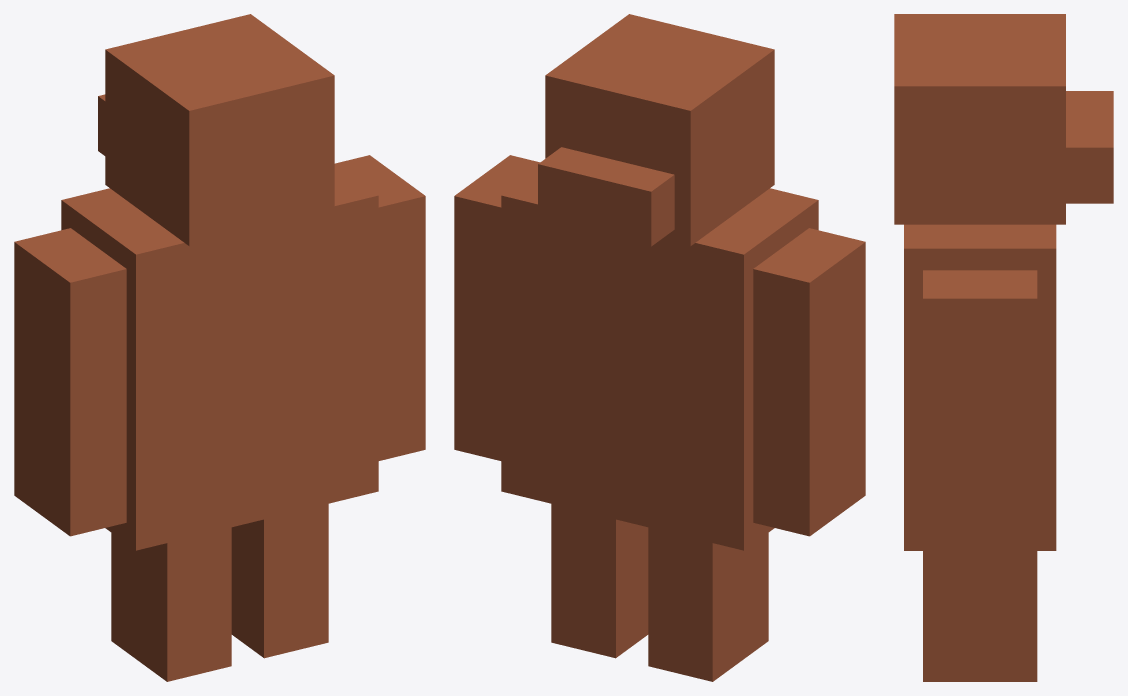
The model's file is actor_boarman.obj.
The picture shows the model from 3 angles, left to right: view 1: azimuth 30°, elevation 25°; view 2: azimuth 150°, elevation 25°; view 3: azimuth 270°, elevation 25°; orthographic projection. The views are drawn at different scales.
Parts seen in each view (by area): view 1: actor_boarman; view 2: actor_boarman; view 3: actor_boarman.
Boxes of the visible parts, x1=… form: actor_boarman: x1=14, y1=14, x2=425, y2=681; actor_boarman: x1=454, y1=14, x2=865, y2=681; actor_boarman: x1=894, y1=14, x2=1113, y2=681.
Bounding box in the file's own units: 0.88 × 1.37 × 0.46.
